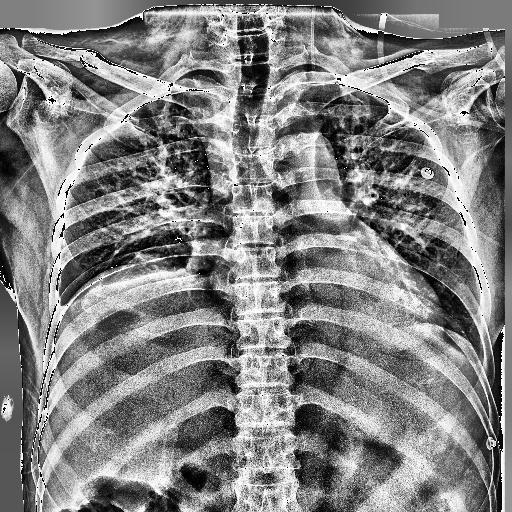0- Aortic enlargement: (270, 134, 342, 198)
11- Pleural thickening: (50, 294, 72, 312)
13- Pulmonary fibrosis: (331, 100, 437, 240), (106, 104, 214, 238)
3- Cardiomegaly: (206, 245, 444, 327), (208, 256, 444, 332)
7- Lung Opacity: (183, 80, 231, 196)
